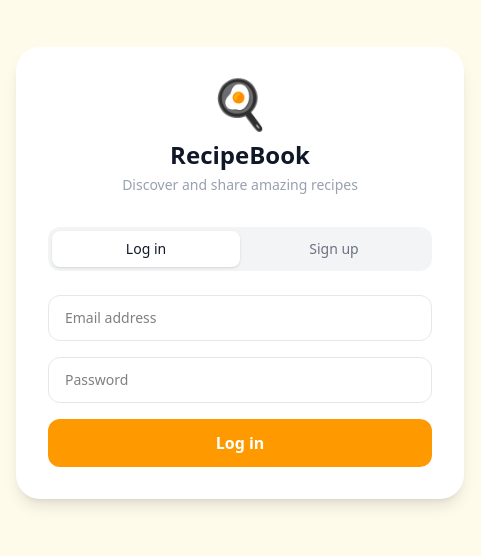
Test case: LoginPage › shows name fields after switching to the Sign up tab
What coordinates should you click on to do the following:
click the button "Sign up"
I would click on:
 (334, 249)
Its box is [240, 231, 428, 267].
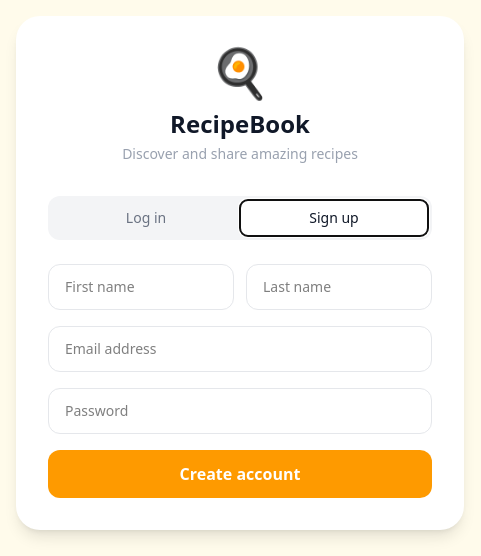
Result: the field with placeholder "First name" is shown at [48, 264, 234, 310]
Result: the field with placeholder "Last name" is shown at [246, 264, 432, 310]
Result: the button "Create account" is shown at [48, 450, 432, 498]
